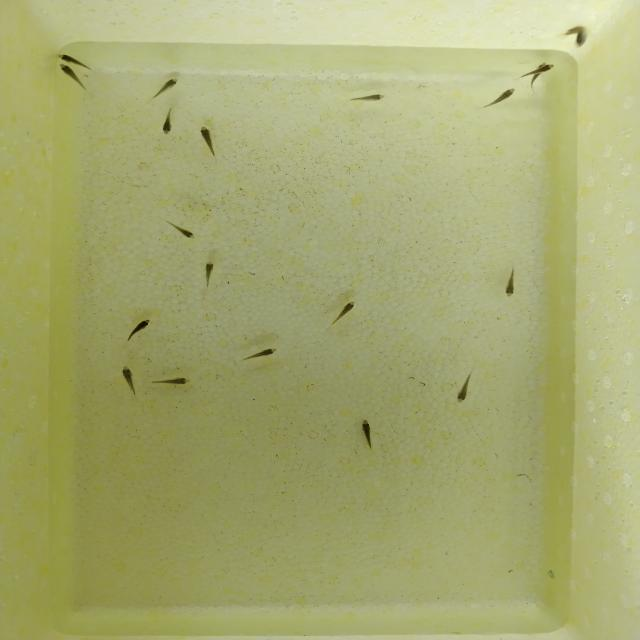fingerling: (354, 412, 381, 446), (160, 368, 196, 392), (121, 316, 158, 338), (150, 74, 182, 97), (488, 84, 519, 107), (168, 222, 202, 242), (336, 294, 359, 322), (114, 364, 141, 387), (159, 108, 179, 139), (56, 54, 100, 68), (503, 268, 519, 302), (62, 68, 86, 89), (250, 346, 283, 361), (354, 89, 384, 105), (200, 259, 218, 282), (456, 378, 470, 407), (198, 125, 214, 148), (531, 64, 561, 72)
